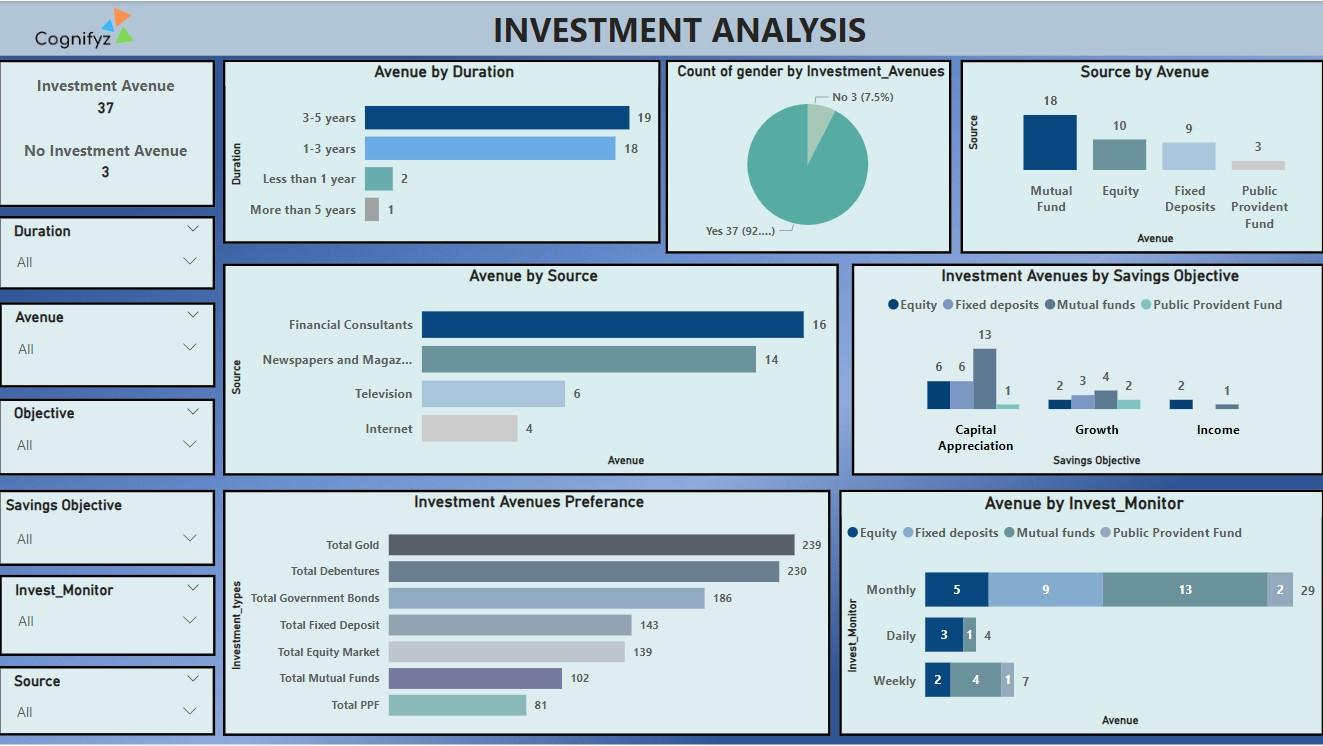

This screenshot's page, from the dashboard's own definition file:
{"tool":"powerbi","page":{"name":"Dashboard 2","canvas":[1280,720],"ordinal":7},"visuals":[{"type":"textbox","box":[0,0,1280.3,52.6],"z":0},{"type":"slicer","fields":{"Values":["Sales_data.Duration"]},"box":[0,207.5,209.9,71.2],"z":1000},{"type":"slicer","title":"Savings Objective","fields":{"Values":["Sales_data.What are your savings objectives?"]},"box":[0,471.7,209.9,73.6],"z":2000},{"type":"slicer","fields":{"Values":["Sales_data.Objective"]},"box":[0,383.6,209.9,74.8],"z":3000},{"type":"slicer","fields":{"Values":["Sales_data.Source"]},"box":[0,641.8,209.9,67.6],"z":4000},{"type":"slicer","fields":{"Values":["Sales_data.Invest_Monitor"]},"box":[1.2,553.8,208.7,78.4],"z":5000},{"type":"slicer","fields":{"Values":["Sales_data.Avenue"]},"box":[1.2,290.8,208.7,82],"z":6000},{"type":"cardVisual","title":"Investment Avenue","fields":{"Data":["Sales_data.Total_investment_avenue","Sales_data.No_investment_avenue"]},"box":[0,56.7,209.9,142.4],"z":7000},{"type":"barChart","title":"Investment Avenues Preferance","fields":{"Category":["Table (2).Investment_types"],"Y":["Sum(Table (2).values)"]},"box":[217.2,471.7,586.3,237.7],"z":8000},{"type":"clusteredColumnChart","title":"Investment Avenues by Savings Objective","fields":{"Y":["Sales_data.correlation_for_Equity","Sales_data.correlation_for_fixeddeposits","Sales_data.correlation_for_mutualfunds","Sales_data.correlation_for_PPF"],"Category":["Sales_data.Objective"]},"box":[824,253.4,456,205.1],"z":9000},{"type":"barChart","title":"Avenue by Duration","fields":{"Y":["CountNonNull(Sales_data.Avenue)"],"Category":["Sales_data.Duration"]},"box":[217.2,56.7,422.3,177.3],"z":10000},{"type":"barChart","title":"Avenue by Invest_Monitor","fields":{"Y":["Sales_data.correlation_for_Equity","Sales_data.correlation_for_fixeddeposits","Sales_data.correlation_for_mutualfunds","Sales_data.correlation_for_PPF"],"Category":["Sales_data.Invest_Monitor"]},"box":[811.9,471.7,468.1,237.7],"z":11000},{"type":"pieChart","fields":{"Series":["Sales_data.Investment_Avenues"],"Y":["CountNonNull(Sales_data.gender)"]},"box":[644.2,56.7,276.3,187],"z":12000},{"type":"columnChart","title":"Source by Avenue","fields":{"Category":["Sales_data.Avenue"],"Y":["CountNonNull(Sales_data.Source)"]},"box":[929,56.7,351.1,187],"z":13000},{"type":"barChart","title":"Avenue by Source","fields":{"Category":["Sales_data.Source"],"Y":["CountNonNull(Sales_data.Avenue)"]},"box":[217.2,253.4,594.8,205.1],"z":14000},{"type":"image","box":[20.5,0,126.7,53.1],"z":15000}]}

Visuals, with their boxes in screenshot pixels (x1, y1, x2, y2), scaled from the page's 1280x720 canvas onto the 1323x746 screenshot:
textbox: [x1=0, y1=0, x2=1322, y2=54]
slicer - Sales_data.Duration: [x1=0, y1=215, x2=217, y2=289]
"Savings Objective" slicer: [x1=0, y1=489, x2=217, y2=565]
slicer - Sales_data.Objective: [x1=0, y1=397, x2=217, y2=475]
slicer - Sales_data.Source: [x1=0, y1=665, x2=217, y2=735]
slicer - Sales_data.Invest_Monitor: [x1=1, y1=574, x2=217, y2=655]
slicer - Sales_data.Avenue: [x1=1, y1=301, x2=217, y2=386]
"Investment Avenue" cardVisual: [x1=0, y1=59, x2=217, y2=206]
"Investment Avenues Preferance" barChart: [x1=224, y1=489, x2=830, y2=735]
"Investment Avenues by Savings Objective" clusteredColumnChart: [x1=852, y1=263, x2=1322, y2=475]
"Avenue by Duration" barChart: [x1=224, y1=59, x2=661, y2=242]
"Avenue by Invest_Monitor" barChart: [x1=839, y1=489, x2=1322, y2=735]
pieChart - Sales_data.Investment_Avenues x CountNonNull(Sales_data.gender): [x1=666, y1=59, x2=951, y2=253]
"Source by Avenue" columnChart: [x1=960, y1=59, x2=1322, y2=253]
"Avenue by Source" barChart: [x1=224, y1=263, x2=839, y2=475]
image: [x1=21, y1=0, x2=152, y2=55]
